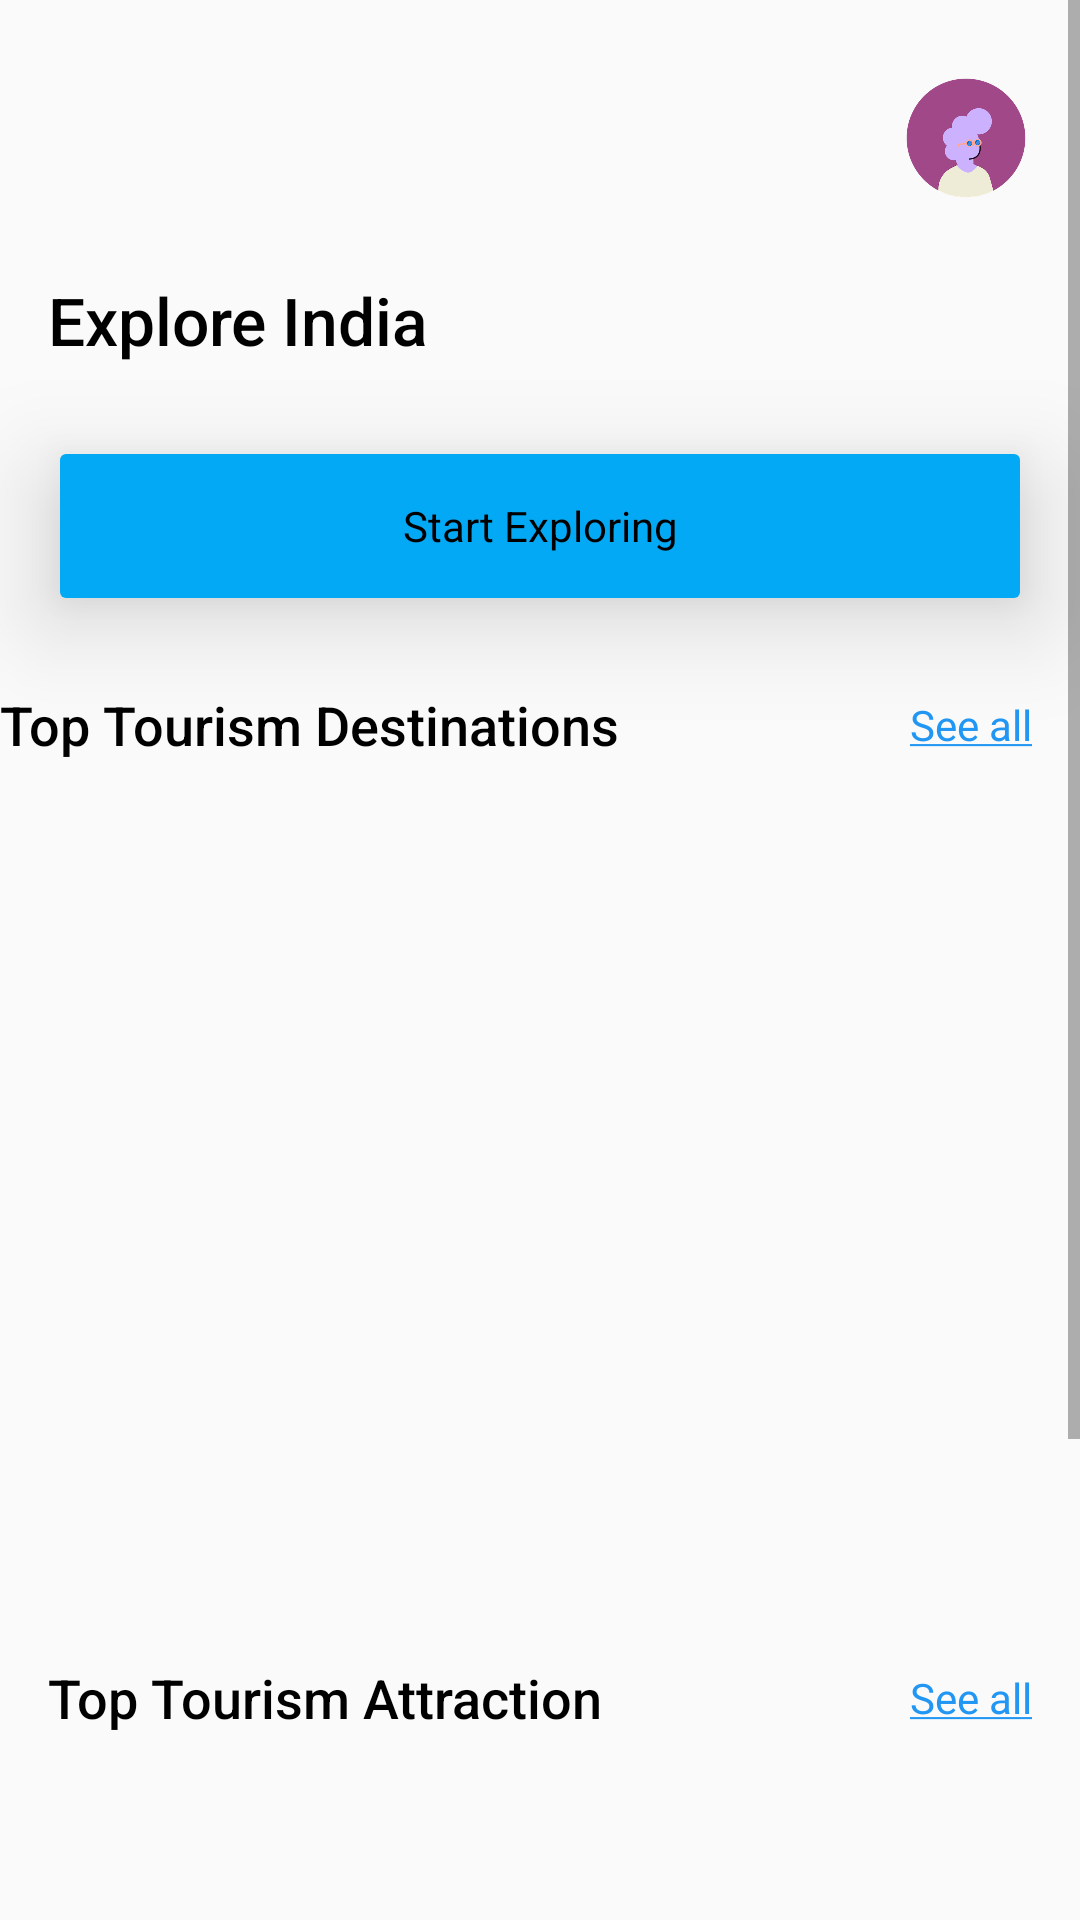

Icon click points for this 1080×1920 phone screenshot, format (x=x, y=y):
profile: (x=965, y=137)
